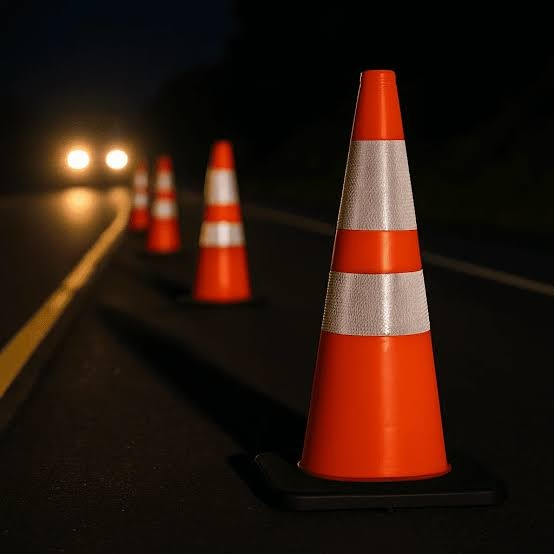safety_cone: (304, 59, 500, 500), (189, 142, 267, 314), (148, 157, 183, 258), (125, 162, 147, 238)
